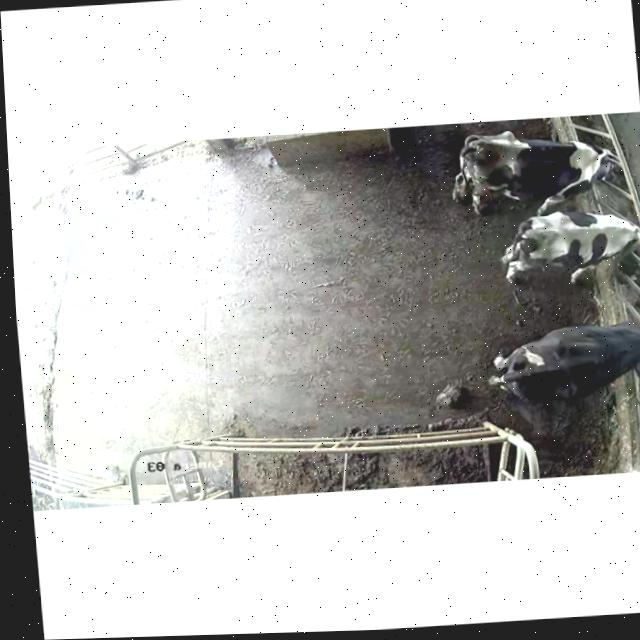eat: (555, 129, 640, 197), (590, 201, 640, 257), (608, 315, 640, 373)
